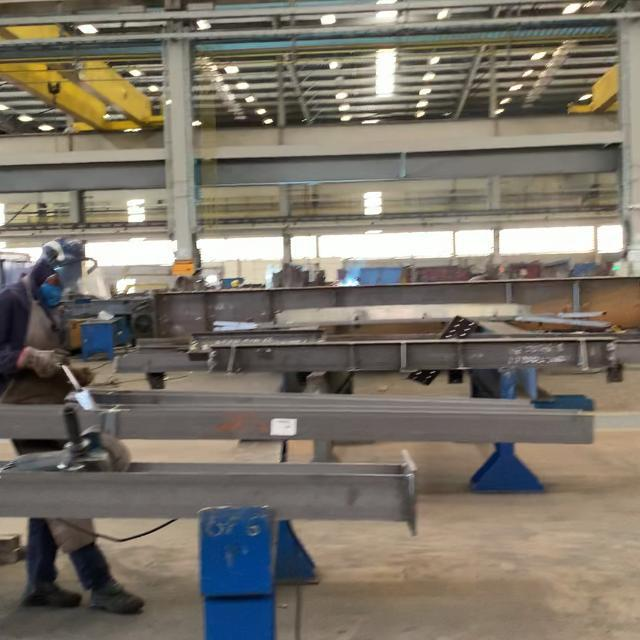eye-glass: (50, 257, 106, 304)
face-shield: (17, 349, 75, 381)
glove: (5, 233, 111, 413), (40, 235, 87, 263)
mask: (4, 234, 111, 414)
safety-shoe: (20, 579, 83, 610), (87, 583, 146, 615)
